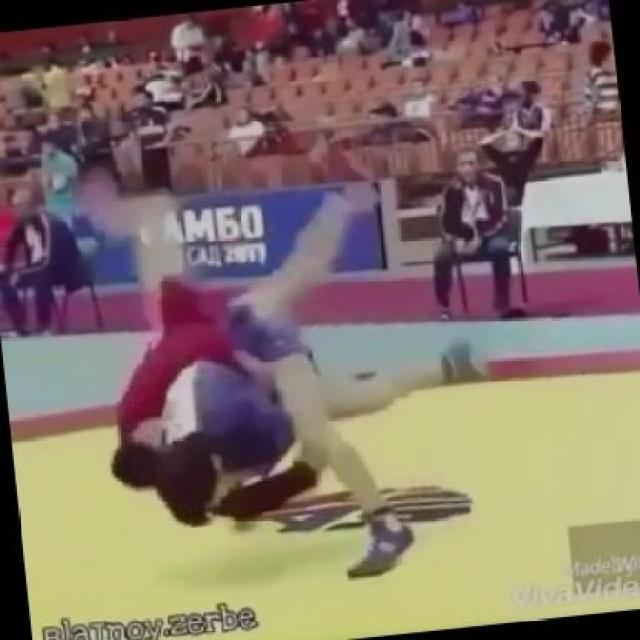fight: (28, 168, 436, 624)
non-fight: (409, 134, 534, 329), (0, 168, 103, 342)
